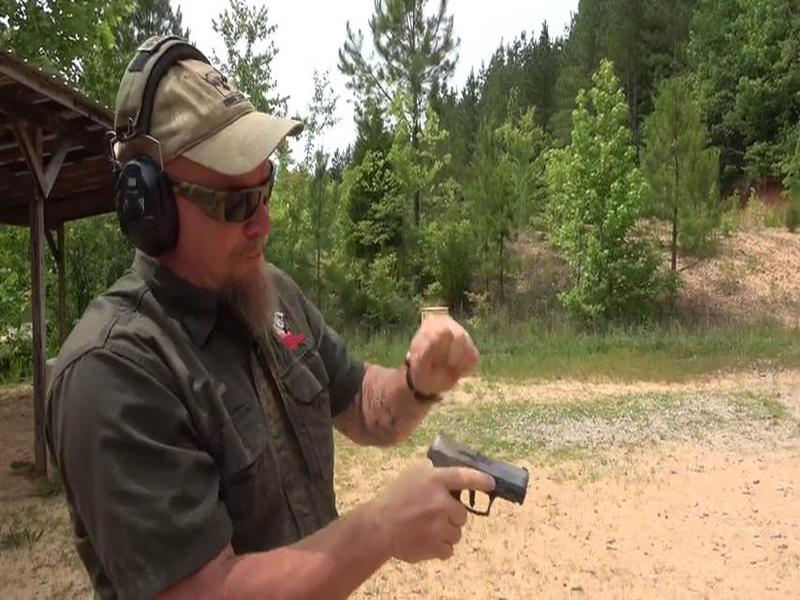Pistola: (386, 419, 537, 559)
